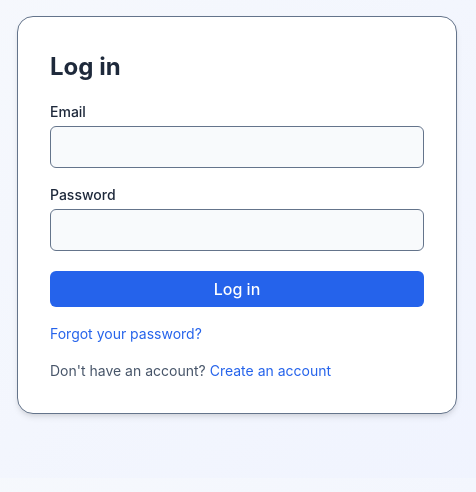
Test: LoginPage › shows the network message when the server cannot be reached
The width and height of the screenshot is (476, 492).
Type "reader@example.com" into the field labelled "Email" at (237, 147), box [50,126,424,168]
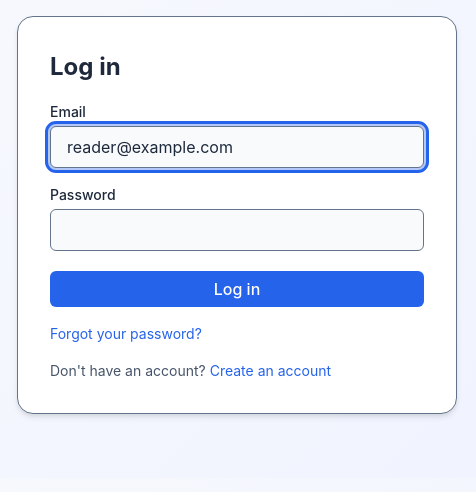
Type "pw-12345" into the password field labelled "Password" at (237, 230), box [50,209,424,251]
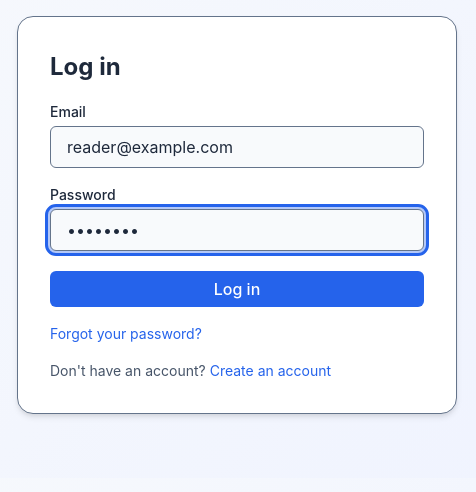
Click the button "Log in" at (237, 289), box [50,271,424,307]
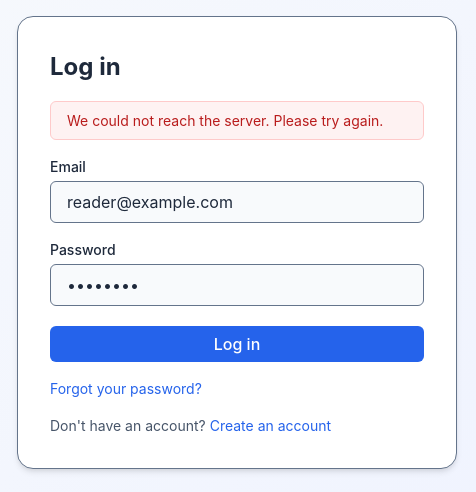
Now the message reads "We could not reach the server. Please try again.", box [67,112,383,129]
